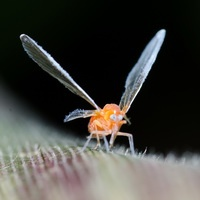insect: (20, 29, 165, 153)
